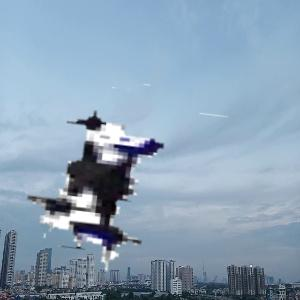drone: (25, 70, 256, 300)
